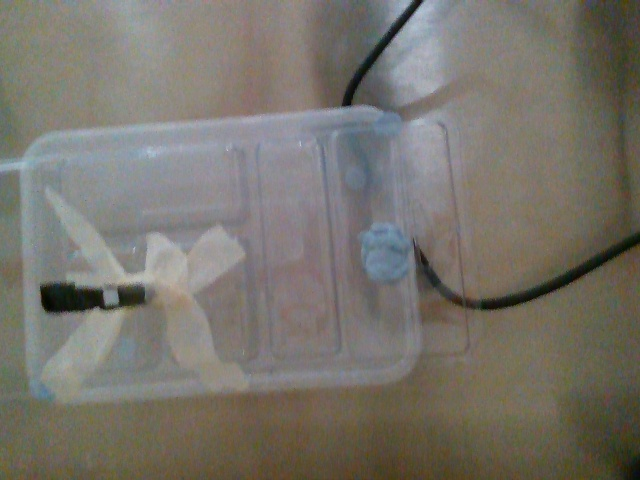test_strip: (36, 282, 121, 313)
